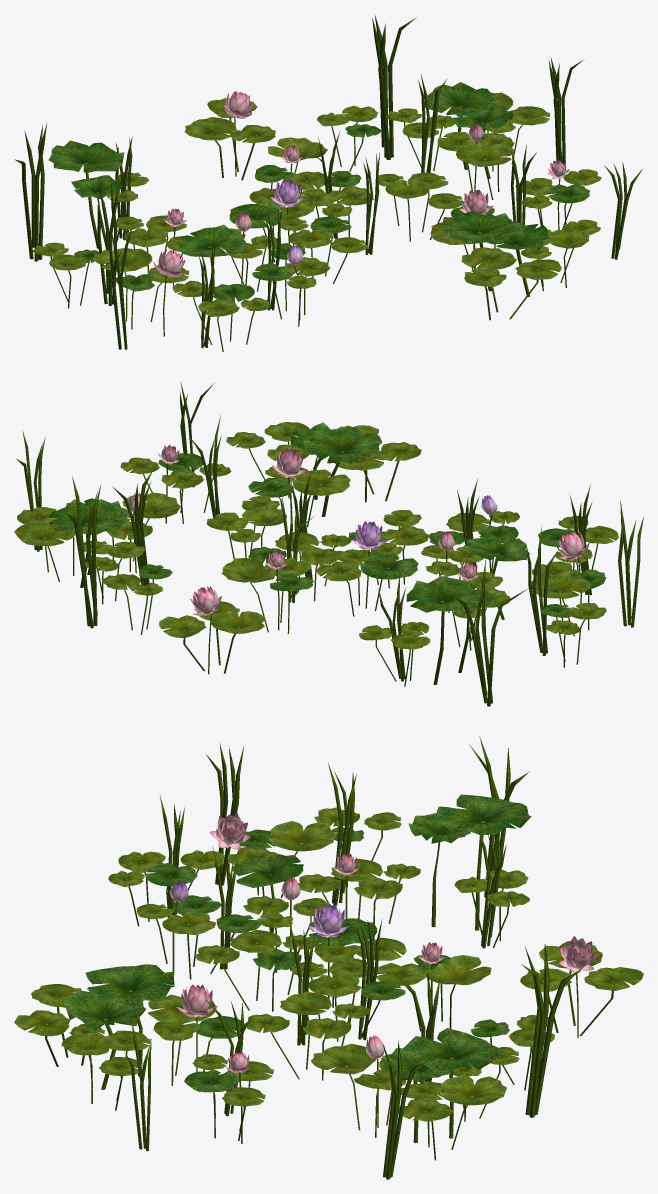
The model's file is 4st_lotus_001.fbx.
3 views of the same model, one above another, from view 1: azimuth 30°, elevation 25°; view 2: azimuth 150°, elevation 25°; view 3: azimuth 270°, elevation 25° (orthographic). The views are drawn at different scales.
Parts seen in each view (by area): view 1: lotus_19; view 2: lotus_19; view 3: lotus_19.
Boxes of the visible parts, left/top/right/bottom form: lotus_19: left=15, top=14, right=642, bottom=351; lotus_19: left=14, top=382, right=643, bottom=706; lotus_19: left=14, top=736, right=643, bottom=1179.
Size of the model in its own units: 21.49 by 5.32 by 17.8.
